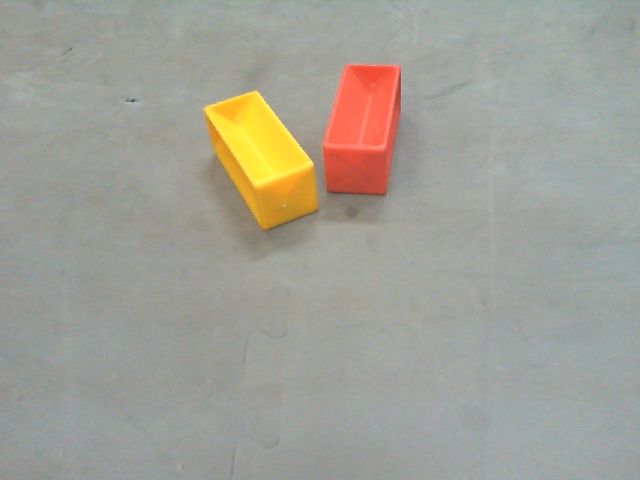RedSample: (323, 61, 403, 200)
YellowSample: (202, 89, 321, 232)
